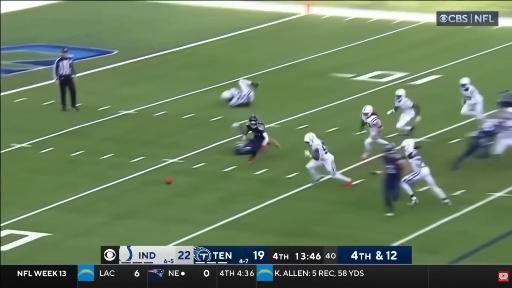Helmet: (402, 139, 415, 153), (304, 133, 317, 144), (395, 89, 406, 100), (362, 106, 373, 117), (221, 90, 231, 101), (384, 144, 395, 154), (249, 115, 258, 127), (460, 78, 470, 87)
Jersey: (362, 113, 382, 135), (460, 85, 483, 103), (407, 150, 426, 171), (383, 154, 401, 176), (229, 89, 252, 106), (311, 140, 329, 160), (395, 97, 414, 114), (247, 122, 265, 139)
Player: (401, 139, 451, 205), (304, 133, 352, 187), (372, 145, 405, 215), (360, 106, 389, 159), (388, 89, 421, 135), (243, 115, 270, 162), (221, 79, 259, 107), (460, 78, 484, 119), (235, 135, 258, 155)
